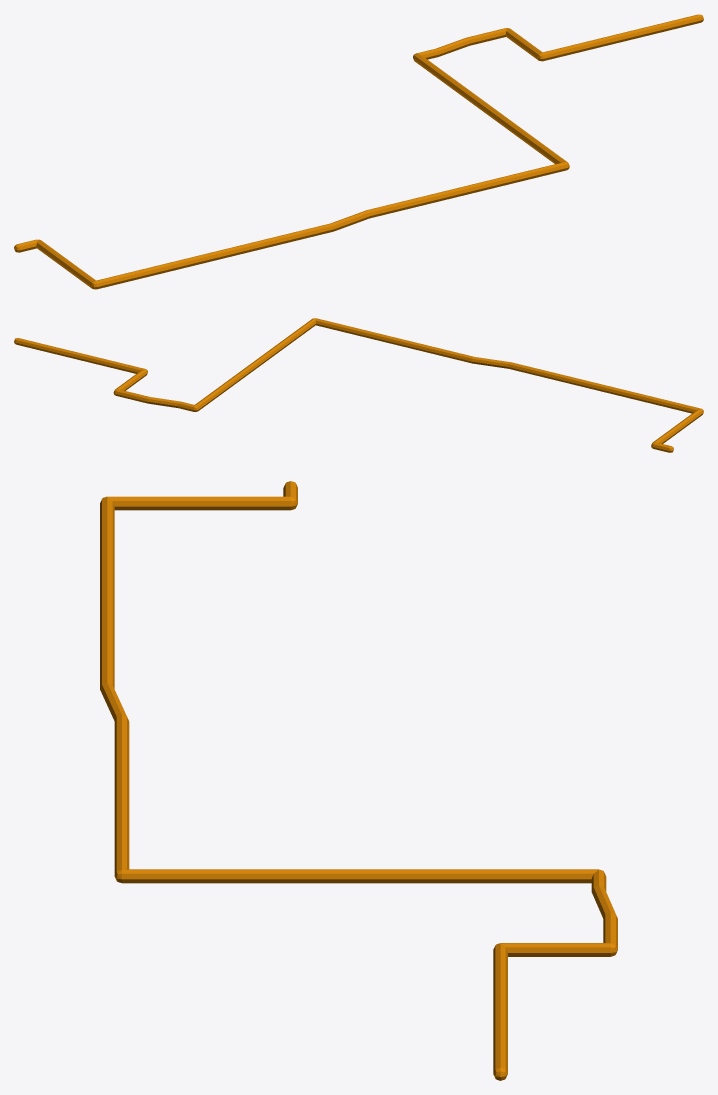
3 renders of one model, top to bottom at view 1: azimuth 30°, elevation 25°; view 2: azimuth 150°, elevation 25°; view 3: azimuth 270°, elevation 25°, orthographic. The views are drawn at different scales.
Bounding box in the file's own units: 1910 × 20 × 706.
